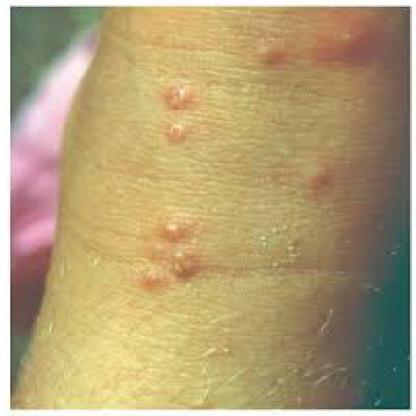Fire ant: (142, 223, 210, 295), (323, 13, 379, 68), (158, 87, 200, 113), (258, 46, 288, 68), (167, 124, 189, 150), (312, 170, 332, 196)
